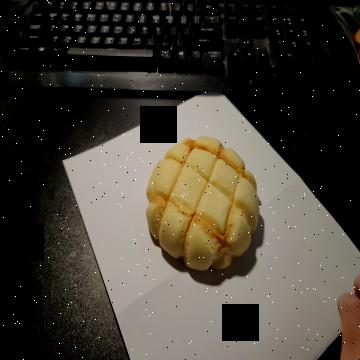melon_bread: (144, 138, 262, 273)
